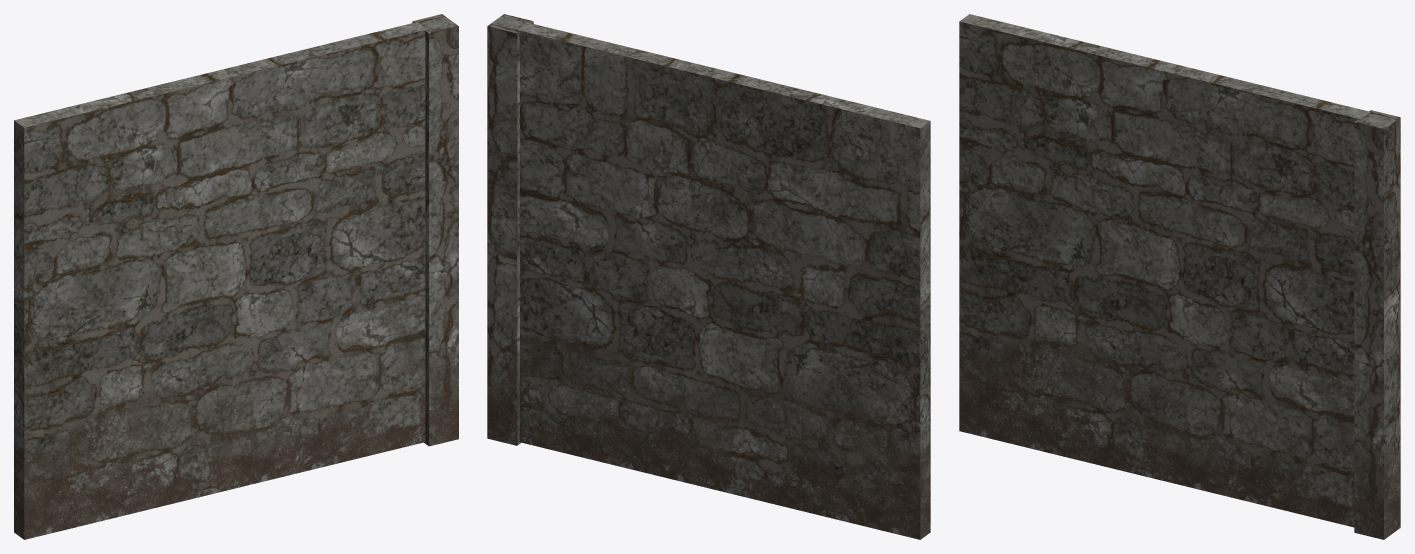
The model's file is Wall_Rock_TX.fbx.
3 renders of one model, left to right at view 1: azimuth 30°, elevation 25°; view 2: azimuth 150°, elevation 25°; view 3: azimuth 330°, elevation 25°, orthographic.
Visible parts, largest first — view 1: Wall_Rock.001; view 2: Wall_Rock.001; view 3: Wall_Rock.001.
Boxes of the visible parts, left/top/right/bottom form: Wall_Rock.001: left=14, top=14, right=458, bottom=539; Wall_Rock.001: left=487, top=14, right=930, bottom=539; Wall_Rock.001: left=959, top=14, right=1400, bottom=539.
Bounding box in the file's own units: 10009 × 9186 × 670.
Materials: 1 (1 with a texture image).
